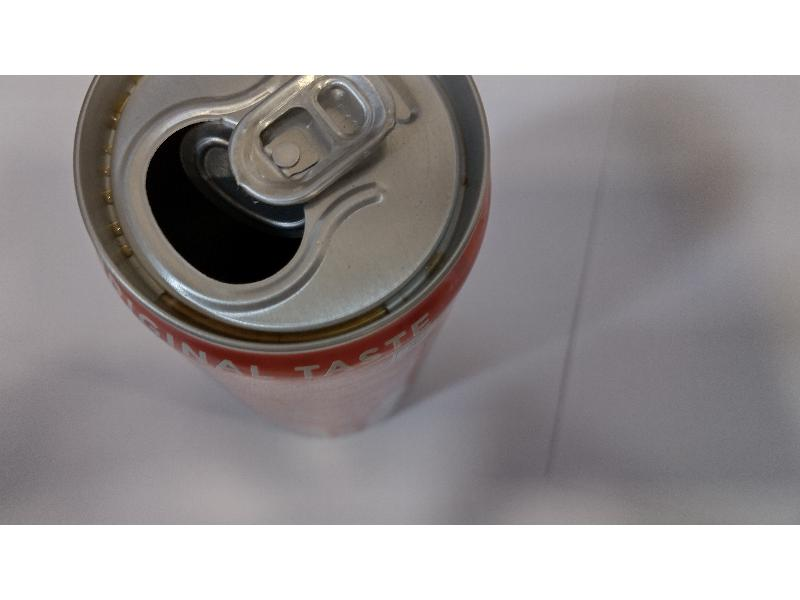can: (65, 77, 511, 391)
